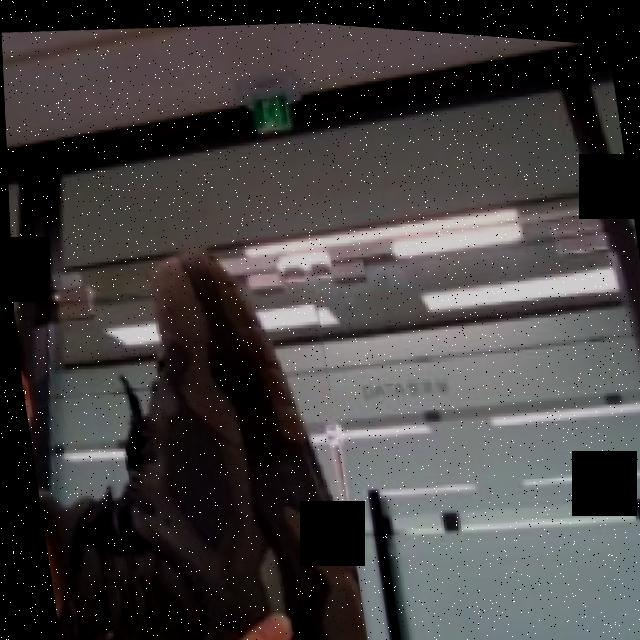shoe: (52, 211, 364, 640)
